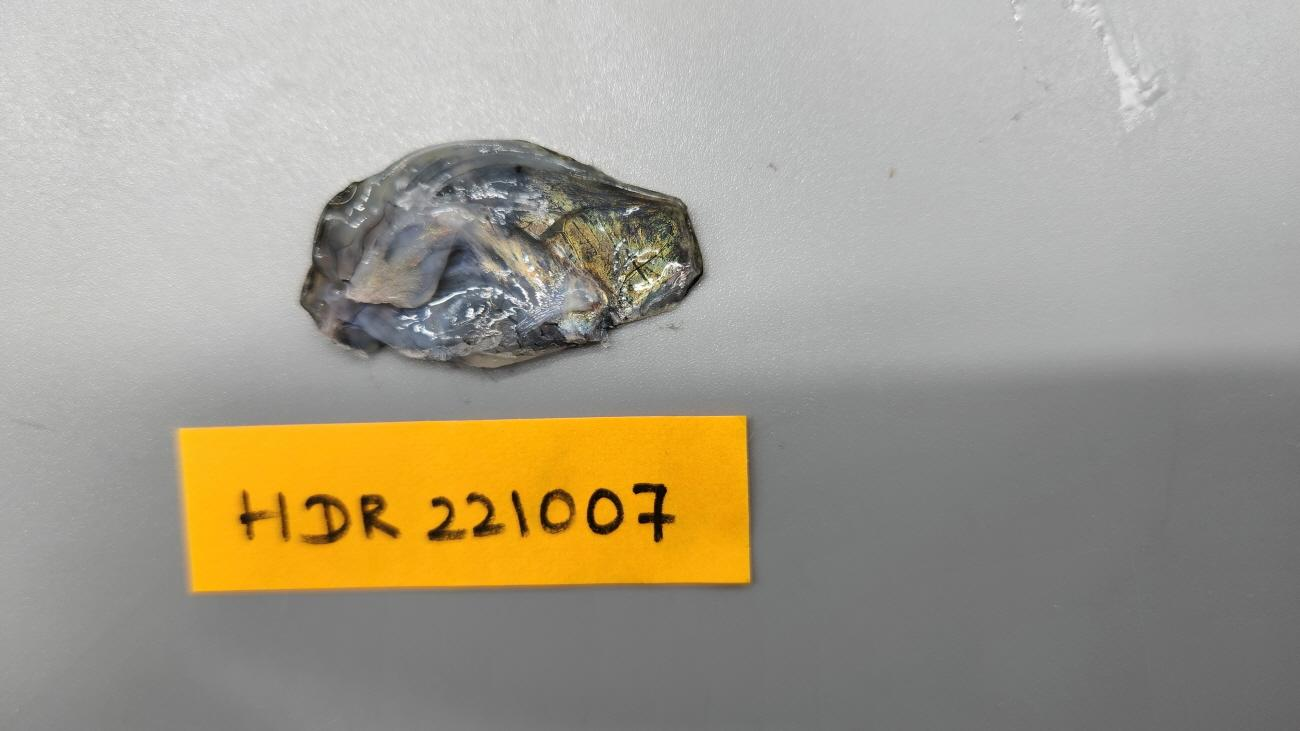POGCN: (297, 138, 704, 374)
